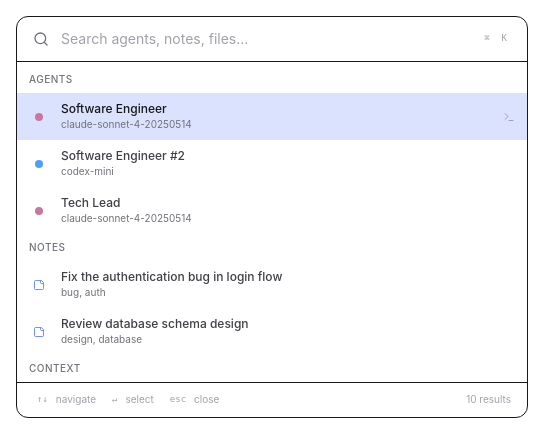
CommandPalette › search filtering › filters notes by content
The image size is (545, 435).
Type "authentication" into the field with placeholder "Search agents, notes, files…". click: (265, 39)
box: 61,29 -> 468,49
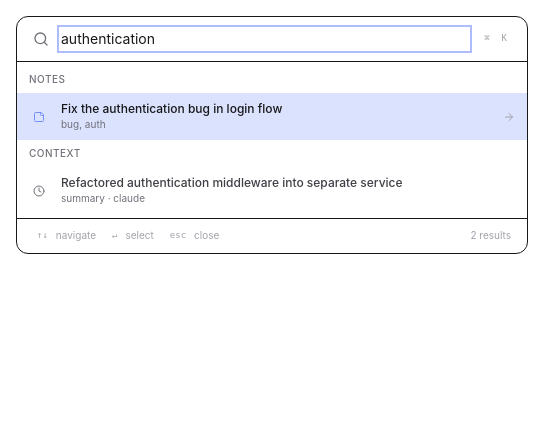
Check: the text "Fix the authentication bug in login flow" is shown, box 61,101 -> 282,117
Check: the button "Review database schema design" is gone
